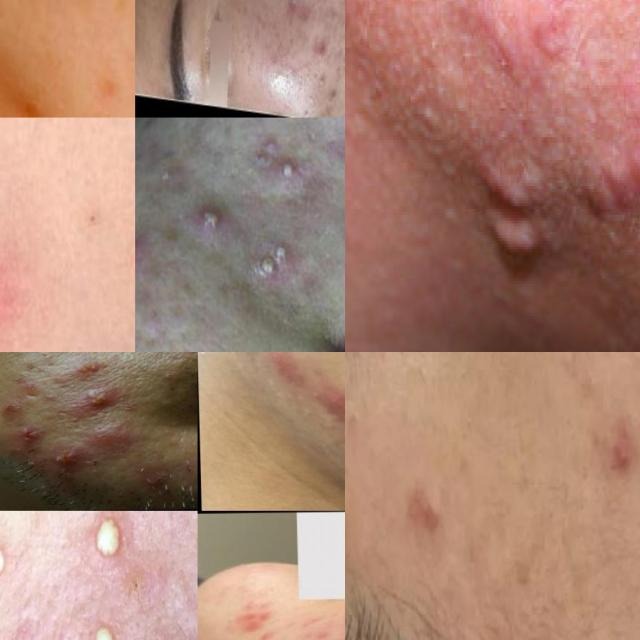acne_scars: (314, 385, 345, 449), (223, 608, 277, 638), (265, 352, 306, 388)
comedone: (570, 352, 605, 411), (345, 389, 370, 457), (304, 85, 316, 108), (198, 352, 215, 363)
cystic: (84, 389, 114, 412), (95, 424, 121, 448), (52, 448, 85, 466)
papule: (404, 471, 456, 548), (607, 427, 640, 479), (314, 22, 333, 60), (0, 397, 24, 418)
pustule: (79, 510, 134, 582), (243, 236, 302, 296), (186, 195, 230, 240), (270, 147, 304, 186), (86, 605, 123, 640), (0, 528, 9, 598), (135, 226, 147, 273)
sebo-crystan-conglo: (74, 359, 107, 378)
